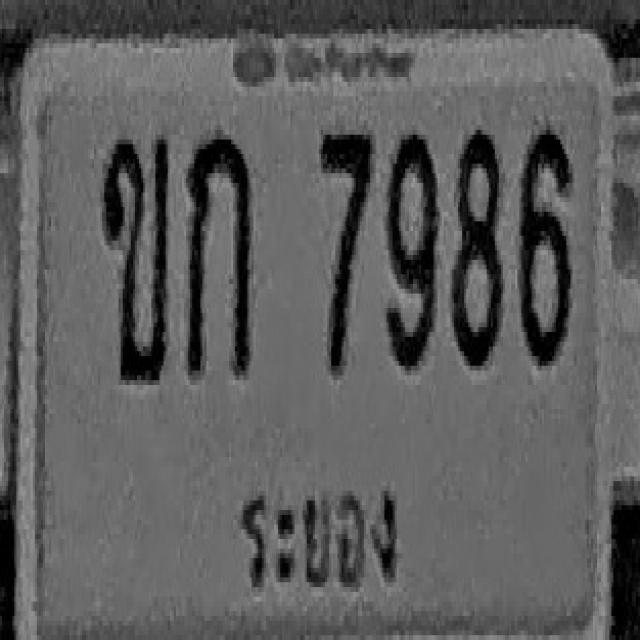10GorGai: (185, 130, 251, 375)
11KhorKhai: (102, 135, 168, 380)
6: (520, 123, 570, 363)
7: (319, 127, 372, 373)
8: (452, 125, 501, 366)
9: (386, 128, 436, 368)
Rayong: (227, 470, 405, 613)
